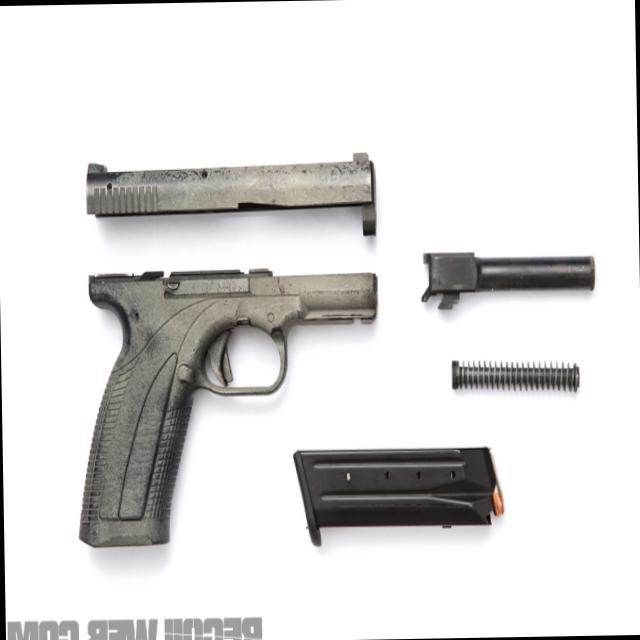Gun: (33, 148, 390, 558)
